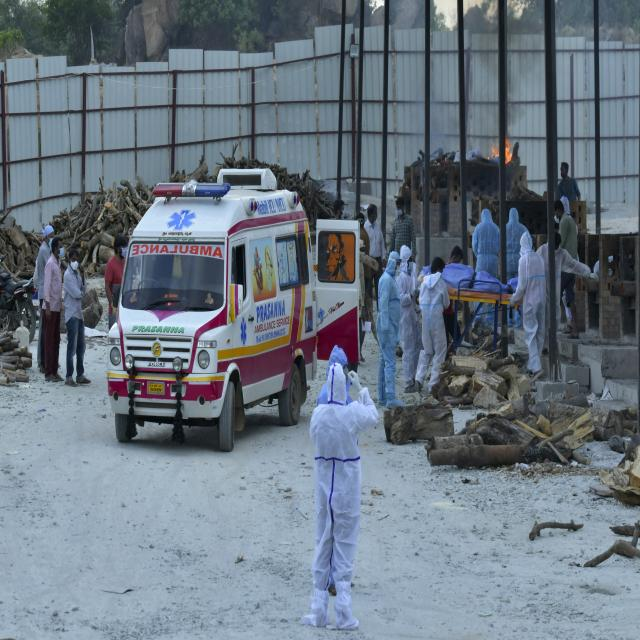emergency: (108, 169, 360, 452)
